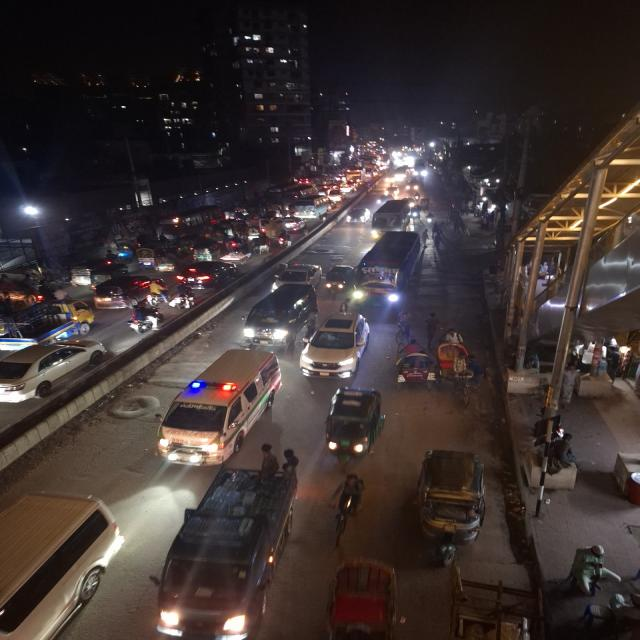bus: (356, 230, 425, 316), (369, 199, 410, 239), (289, 196, 331, 220)
car: (0, 495, 119, 640), (157, 346, 281, 466), (0, 337, 109, 408), (299, 310, 373, 380), (240, 284, 315, 346), (90, 274, 154, 310), (181, 259, 239, 289), (268, 262, 322, 290), (343, 206, 369, 227)
cng: (412, 447, 489, 567), (322, 385, 386, 471), (68, 261, 125, 287), (324, 263, 354, 297), (68, 262, 96, 288), (189, 239, 221, 261), (154, 250, 179, 274)
motorcycle: (124, 298, 165, 336), (169, 282, 199, 312), (273, 231, 292, 249)
pickup_van: (159, 440, 303, 640), (0, 298, 99, 348)
rickshaw: (436, 330, 485, 406), (393, 348, 436, 393), (154, 249, 179, 275), (106, 240, 136, 261), (135, 247, 158, 270)
